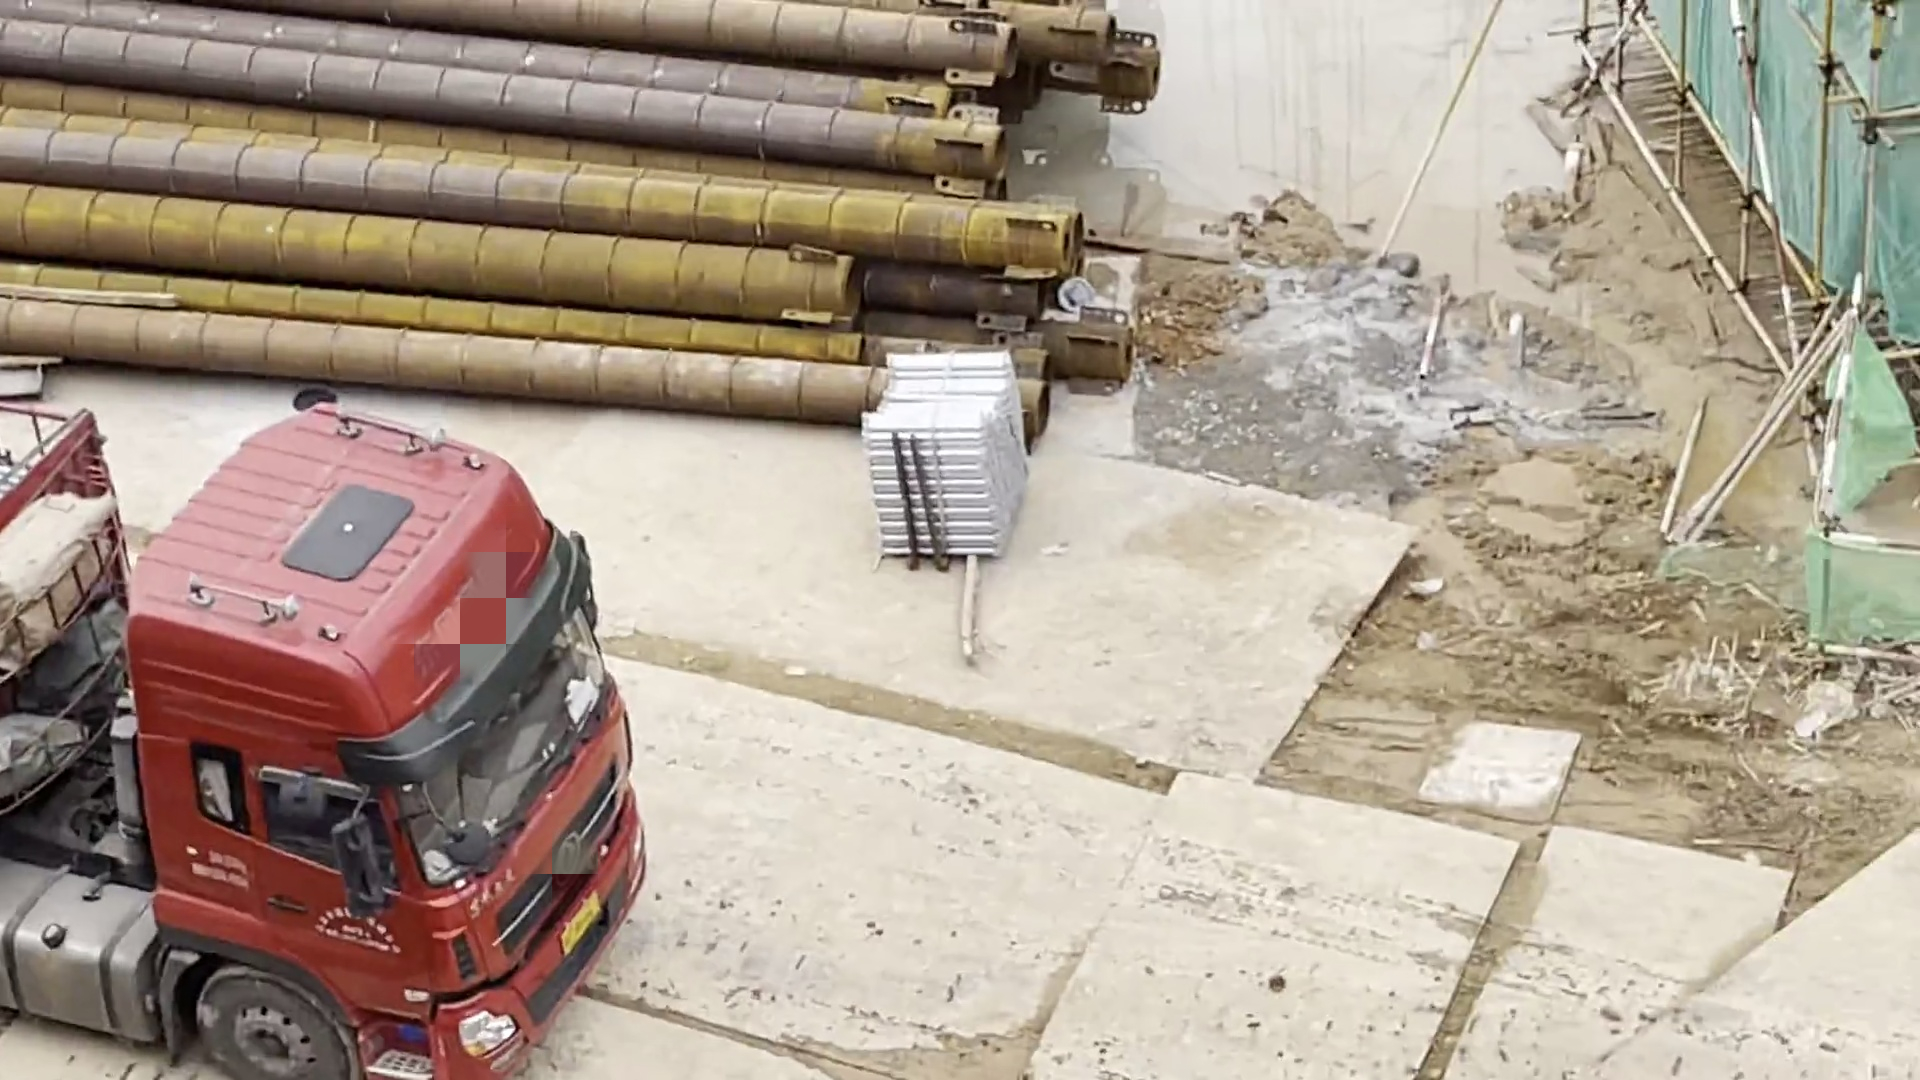scaffold: (862, 348, 1025, 558)
